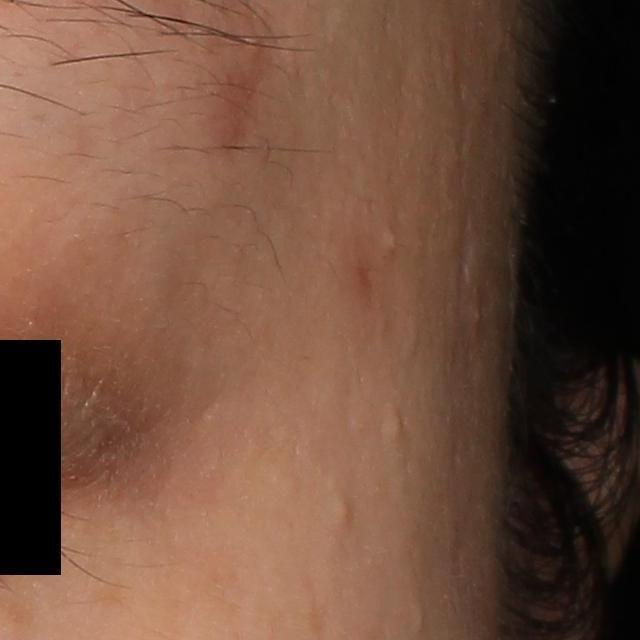comedo: (382, 411, 405, 443), (411, 602, 430, 635), (333, 498, 353, 525), (380, 231, 399, 256)
melasma: (92, 579, 127, 610)
